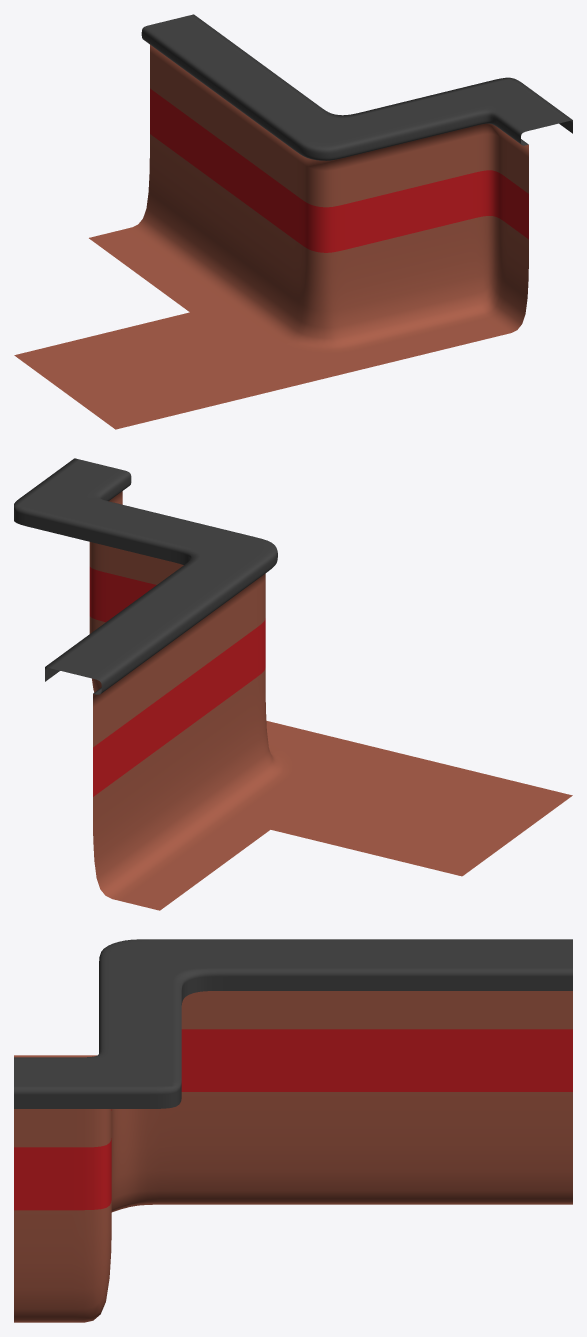
The model's file is Pool.fbx.
The picture shows the model from 3 angles, top to bottom: view 1: azimuth 30°, elevation 25°; view 2: azimuth 150°, elevation 25°; view 3: azimuth 270°, elevation 25°; orthographic projection. The views are drawn at different scales.
Visible parts, largest first — view 1: PoolInnerCorner, PoolSide, PoolOuterCorner, PoolFloor; view 2: PoolSide, PoolInnerCorner, PoolFloor, PoolOuterCorner; view 3: PoolSide, PoolInnerCorner, PoolOuterCorner.
Boxes of the visible parts, x1,y1,x2,y2 form: PoolInnerCorner: (190, 88, 466, 386); PoolSide: (89, 14, 294, 312); PoolOuterCorner: (407, 77, 572, 343); PoolFloor: (14, 312, 290, 429); PoolSide: (45, 586, 270, 910); PoolInnerCorner: (123, 512, 380, 829); PoolFloor: (271, 749, 572, 876); PoolOuterCorner: (14, 458, 153, 692); PoolSide: (293, 939, 572, 1204); PoolInnerCorner: (99, 939, 293, 1212); PoolOuterCorner: (14, 1019, 181, 1322).
Size of the model in its own units: 260 by 108 by 200.
